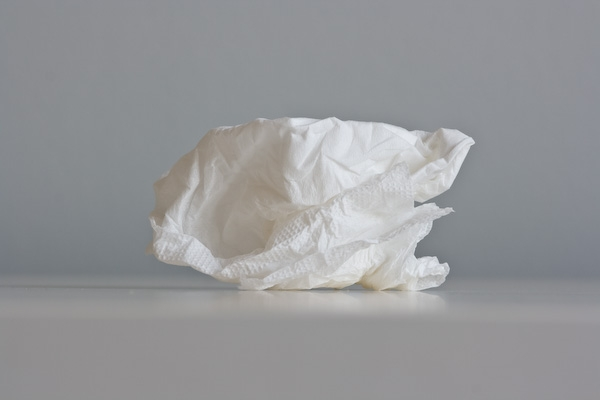paper: (136, 94, 477, 307)
